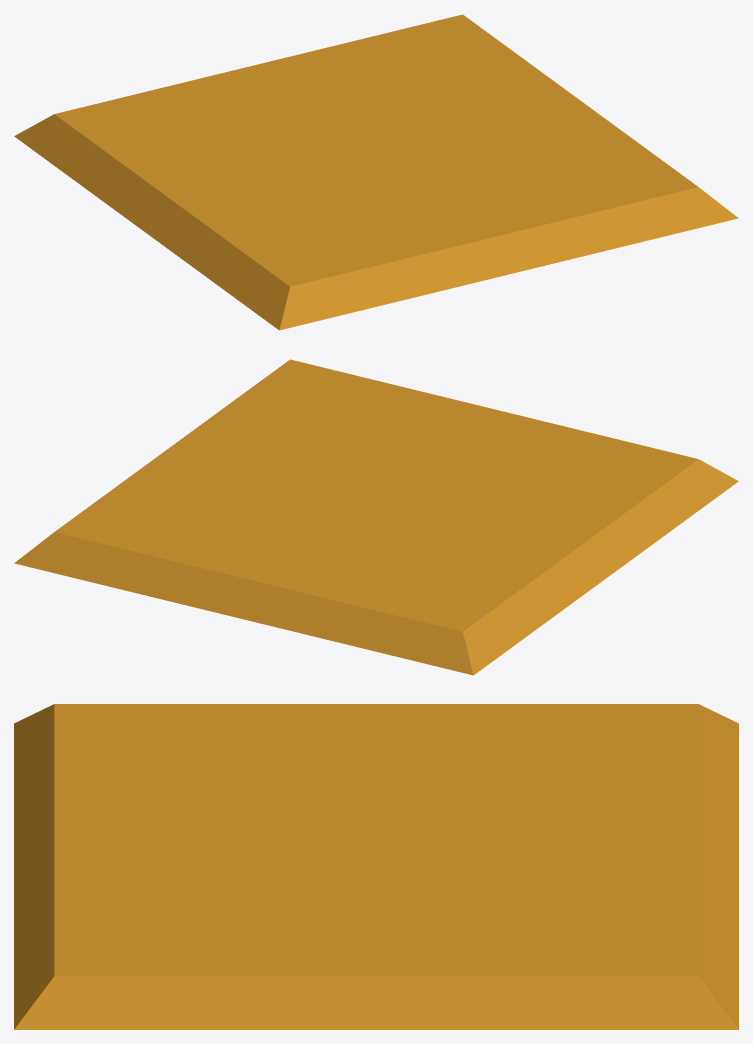
File: Roof-Eaves-4x4-Square.FBX
3 views of the same model, one above another, from view 1: azimuth 30°, elevation 25°; view 2: azimuth 150°, elevation 25°; view 3: azimuth 270°, elevation 25° (orthographic). The views are drawn at different scales.
Visible parts, largest first — view 1: Roof-Eaves-4x4-Square; view 2: Roof-Eaves-4x4-Square; view 3: Roof-Eaves-4x4-Square.
Part boxes in pixels (x1=…): Roof-Eaves-4x4-Square: x1=14, y1=14, x2=738, y2=330; Roof-Eaves-4x4-Square: x1=14, y1=359, x2=738, y2=675; Roof-Eaves-4x4-Square: x1=14, y1=704, x2=738, y2=1029.
Bounding box in the file's own units: 45 × 45 × 2.5.
